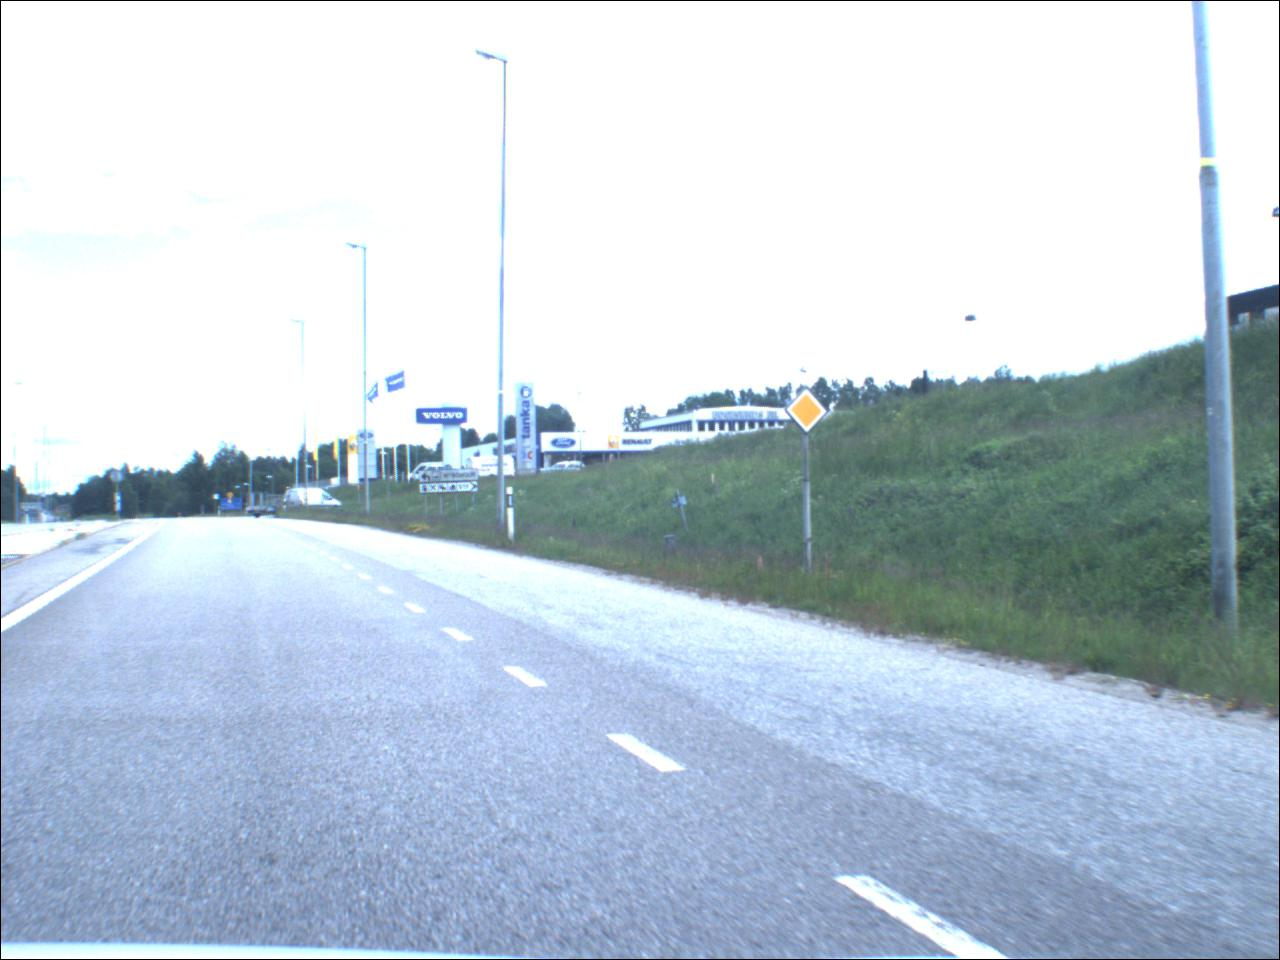PRIORITY_ROAD: (783, 384, 837, 439)
